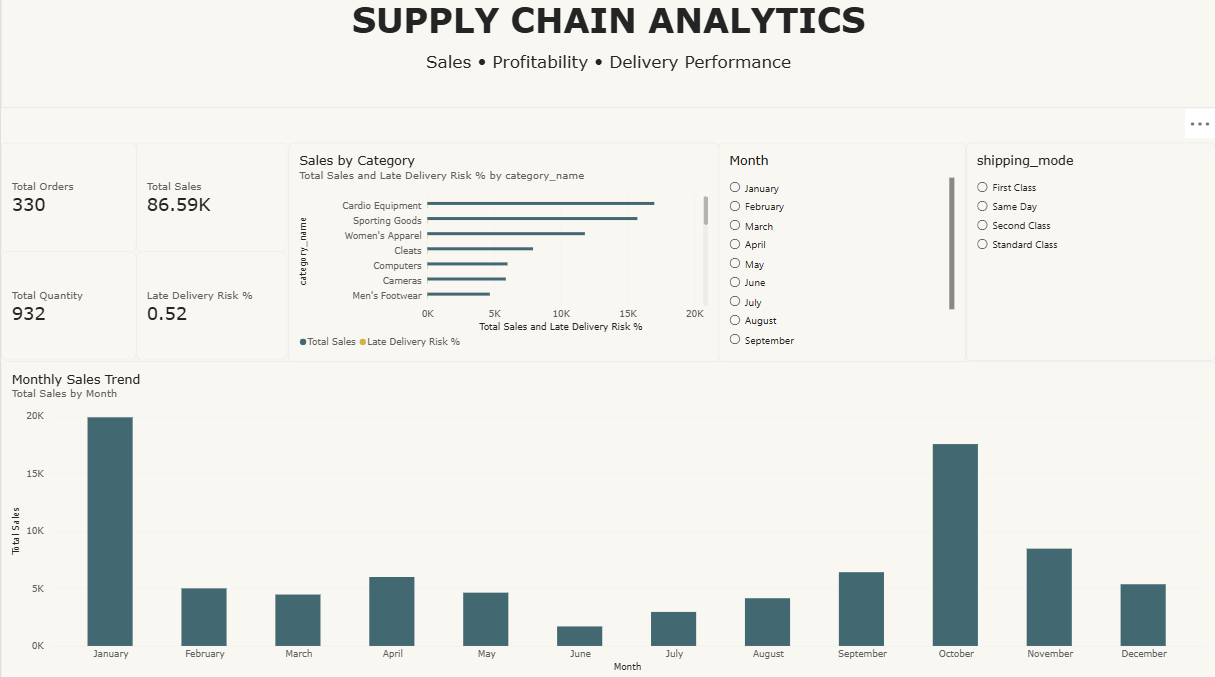

This screenshot's page, from the dashboard's own definition file:
{"tool":"powerbi","page":{"name":"Page 1","canvas":[1920,1080],"ordinal":0},"visuals":[{"type":"textbox","box":[0,0,1920.5,172.1],"z":0},{"type":"cardVisual","fields":{"Data":["supply_chain_analysis supply_chain.Total Orders"]},"box":[0,226.4,214.1,172.9],"z":1000},{"type":"cardVisual","fields":{"Data":["supply_chain_analysis supply_chain.Total Quantity"]},"box":[0,399.3,214.1,172.9],"z":2000},{"type":"cardVisual","fields":{"Data":["supply_chain_analysis supply_chain.Total Sales"]},"box":[214.1,226.4,238.8,172.9],"z":3000},{"type":"cardVisual","fields":{"Data":["supply_chain_analysis supply_chain.Late Delivery Risk %"]},"box":[214.1,399.3,238.8,172.9],"z":4000},{"type":"columnChart","title":"Monthly Sales Trend","fields":{"Category":["supply_chain_analysis supply_chain.order_date_dateorders.Variation.Date Hierarchy.Month"],"Y":["supply_chain_analysis supply_chain.Total Sales"]},"box":[0,572.2,1920.4,508.4],"z":5000},{"type":"clusteredBarChart","title":"Sales by Category","fields":{"Category":["supply_chain_analysis supply_chain.category_name","supply_chain_analysis supply_chain.shipping_mode","supply_chain_analysis supply_chain.customer_segment"],"Y":["supply_chain_analysis supply_chain.Total Sales","supply_chain_analysis supply_chain.Late Delivery Risk %"]},"box":[453.8,226.9,680.7,346.2],"z":6000},{"type":"listSlicer","fields":{"Values":["supply_chain_analysis supply_chain.order_date_dateorders.Variation.Date Hierarchy.Month"]},"box":[1134.5,226.9,390.6,346.2],"z":7000},{"type":"listSlicer","fields":{"Values":["supply_chain_analysis supply_chain.shipping_mode"]},"box":[1526,227,394,345],"z":8000}]}

Visuals, with their boxes in screenshot pixels (x1, y1, x2, y2), scaled from the page's 1920x1080 canvas onto the 1215x677 screenshot:
textbox: <box>0,0,1214,108</box>
cardVisual - supply_chain_analysis supply_chain.Total Orders: <box>0,142,135,250</box>
cardVisual - supply_chain_analysis supply_chain.Total Quantity: <box>0,250,135,359</box>
cardVisual - supply_chain_analysis supply_chain.Total Sales: <box>135,142,287,250</box>
cardVisual - supply_chain_analysis supply_chain.Late Delivery Risk %: <box>135,250,287,359</box>
"Monthly Sales Trend" columnChart: <box>0,359,1214,676</box>
"Sales by Category" clusteredBarChart: <box>287,142,718,359</box>
listSlicer - supply_chain_analysis supply_chain.order_date_dateorders.Variation.Date Hierarchy.Month: <box>718,142,965,359</box>
listSlicer - supply_chain_analysis supply_chain.shipping_mode: <box>966,142,1214,359</box>
